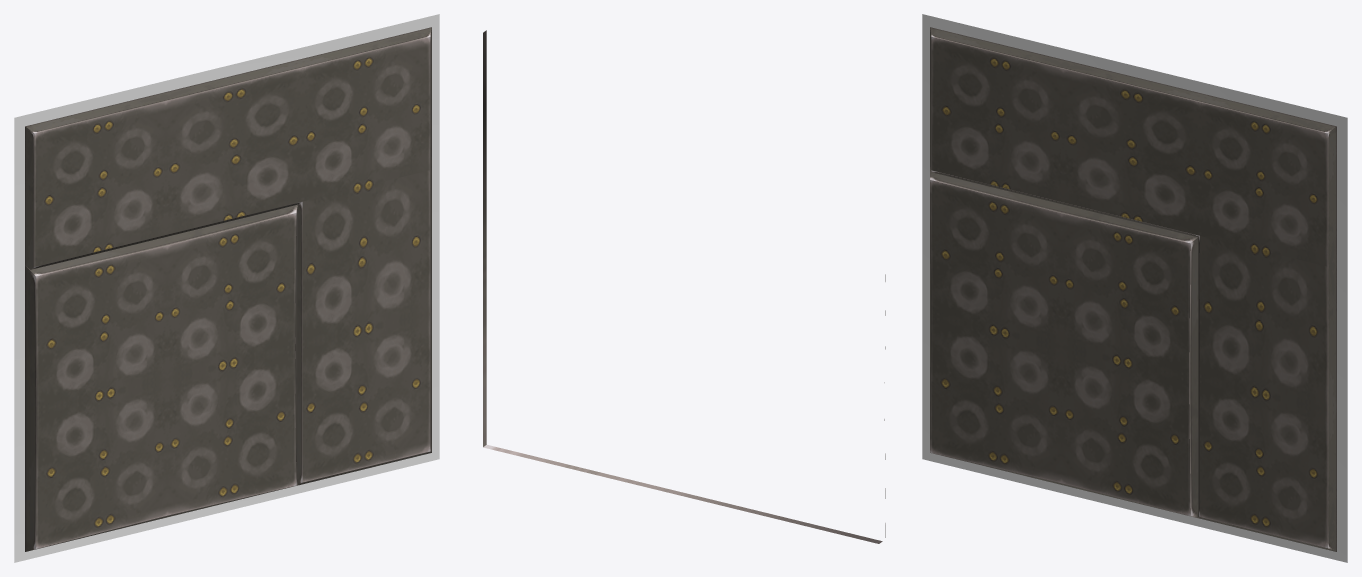
Rendered from tile_3x3.glb.
3 renders of one model, left to right at view 1: azimuth 30°, elevation 25°; view 2: azimuth 150°, elevation 25°; view 3: azimuth 330°, elevation 25°, orthographic.
Parts seen in each view (by area): view 1: spikes.tile_3x3-Mesh[1], spikes.tile_3x3-Mesh[2]; view 2: spikes.tile_3x3-Mesh[1]; view 3: spikes.tile_3x3-Mesh[1], spikes.tile_3x3-Mesh[2].
Part boxes in pixels (x1,y1,x2,y2): spikes.tile_3x3-Mesh[1]: [25, 27, 431, 551]; spikes.tile_3x3-Mesh[2]: [14, 14, 439, 562]; spikes.tile_3x3-Mesh[1]: [483, 30, 885, 543]; spikes.tile_3x3-Mesh[1]: [930, 27, 1336, 551]; spikes.tile_3x3-Mesh[2]: [922, 14, 1347, 562].
Bounding box in the file's own units: 3.2 × 3.2 × 0.15.
Materials: 2 (1 with a texture image).
